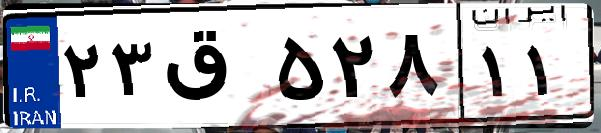1: (475, 38, 525, 113), (525, 38, 570, 115)
2: (330, 28, 385, 110), (57, 26, 110, 100)
3: (110, 28, 158, 98)
5: (270, 28, 330, 110)
8: (385, 28, 445, 110)
ق: (158, 20, 270, 120)
